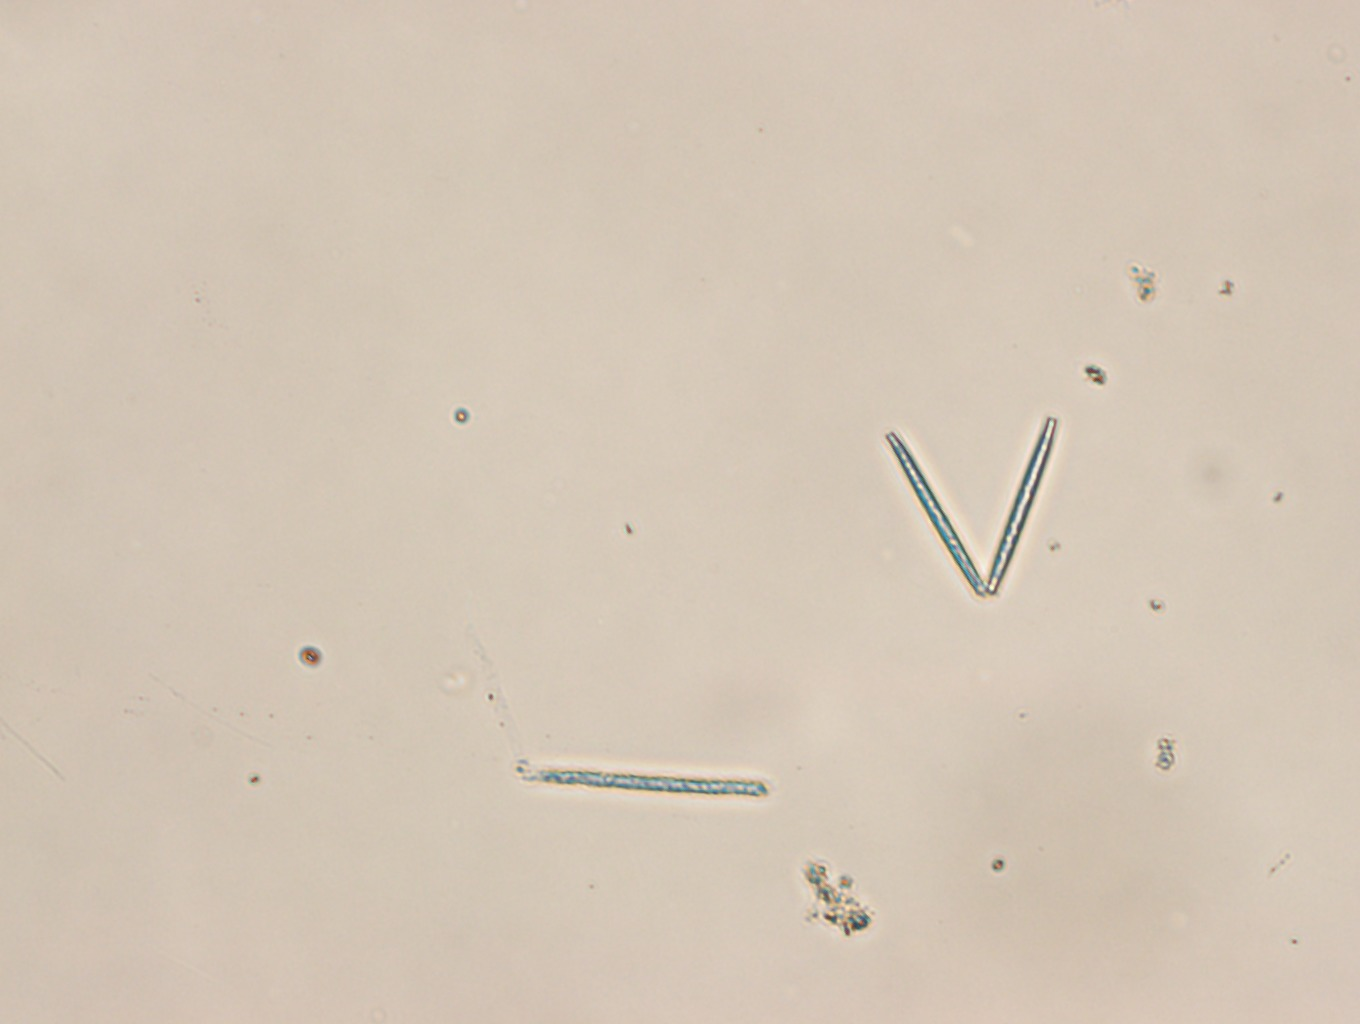thalassionema nitzschioides: (884, 415, 1060, 600)
